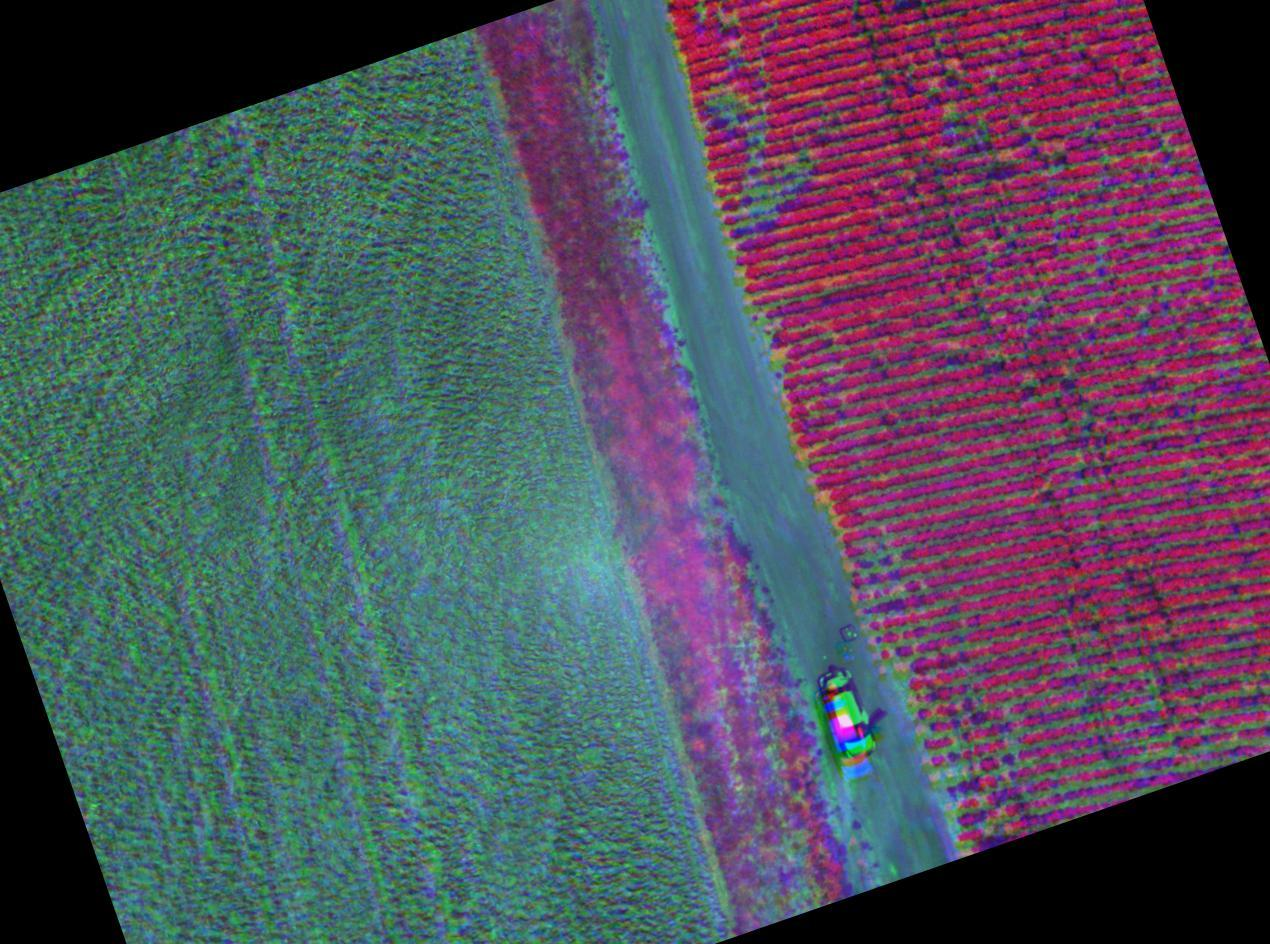dc: (1060, 640, 1180, 730), (845, 527, 939, 637), (884, 653, 979, 757), (724, 156, 819, 230), (936, 761, 1012, 843), (902, 69, 993, 132), (700, 80, 765, 132)
